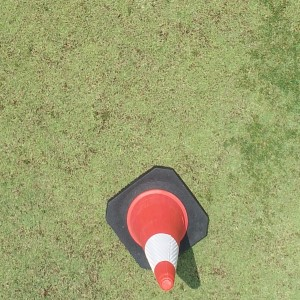traffic cone: (105, 166, 208, 289)
